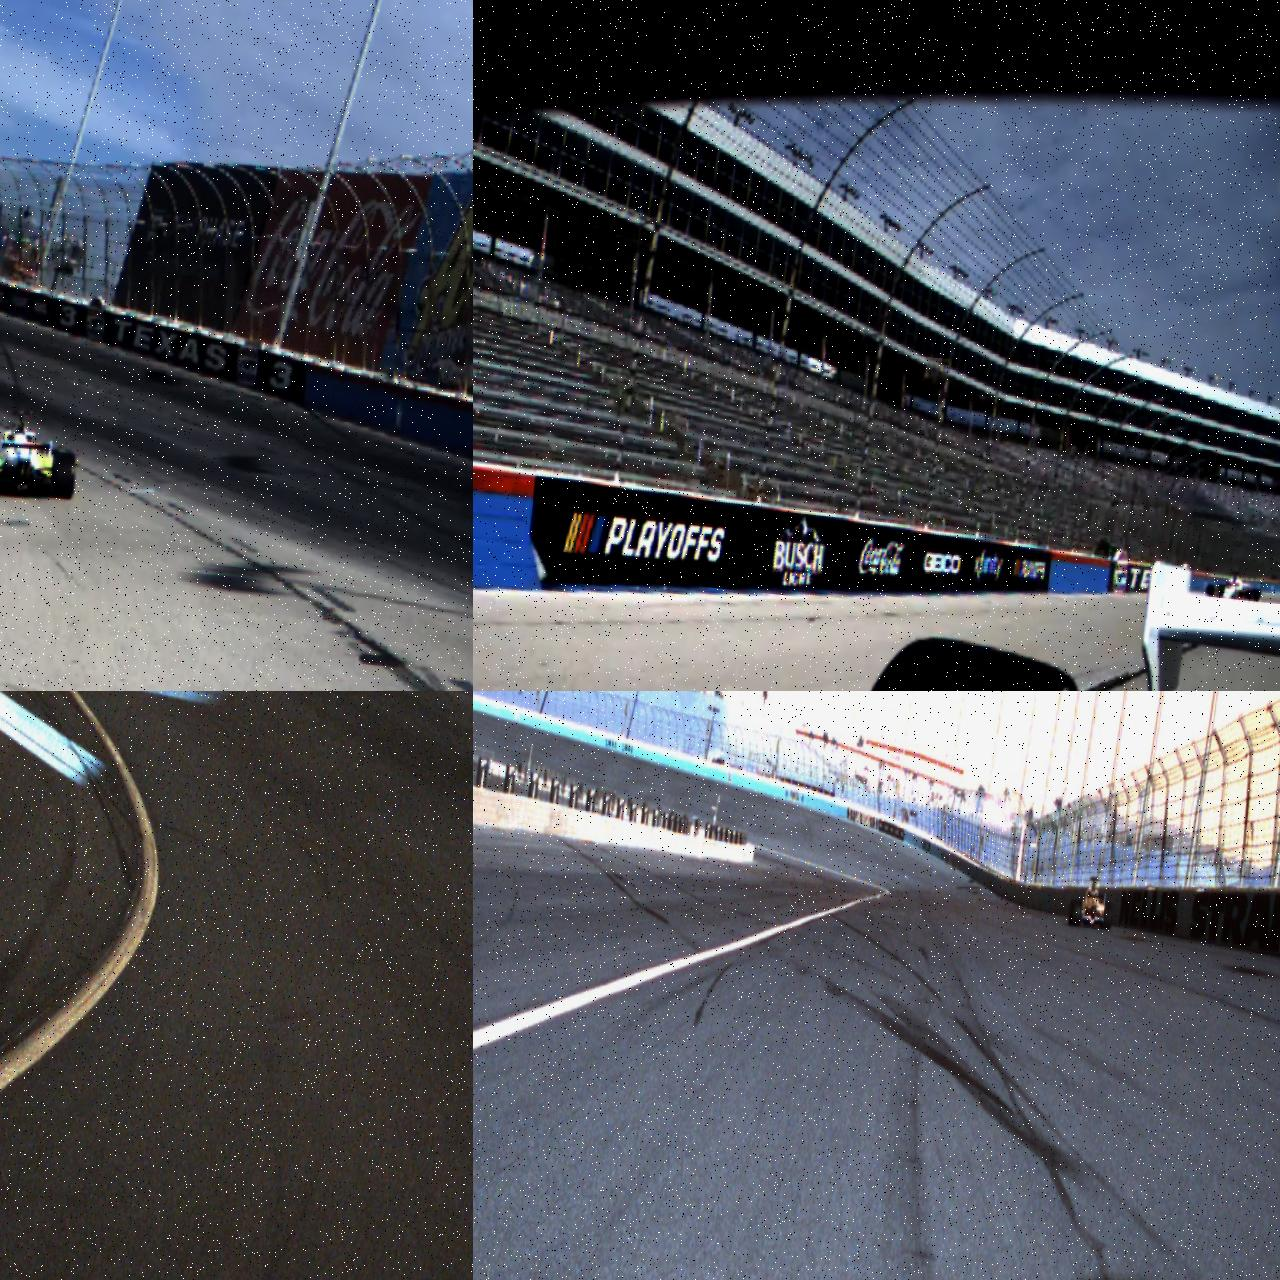AV: (0, 401, 83, 506), (1068, 874, 1116, 930), (1204, 570, 1264, 602)
Wheel: (819, 626, 1096, 691), (50, 452, 78, 501), (1102, 901, 1114, 930), (1072, 900, 1082, 926), (1068, 900, 1076, 926)
